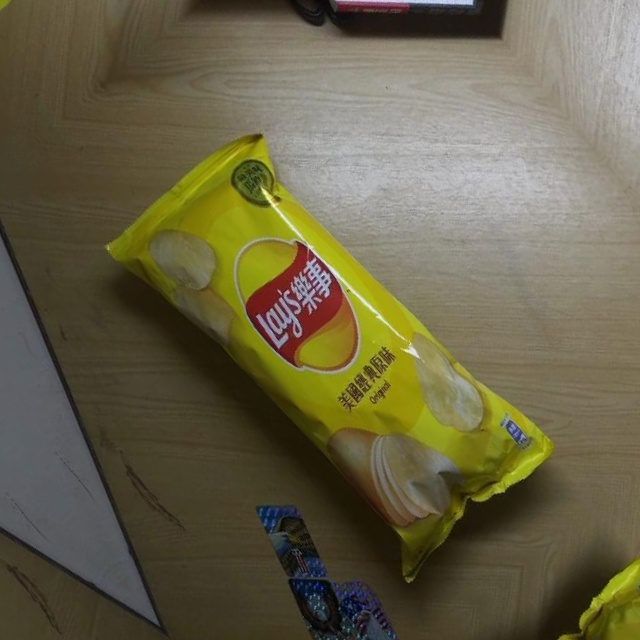Lay-s-original: (101, 104, 562, 595)
